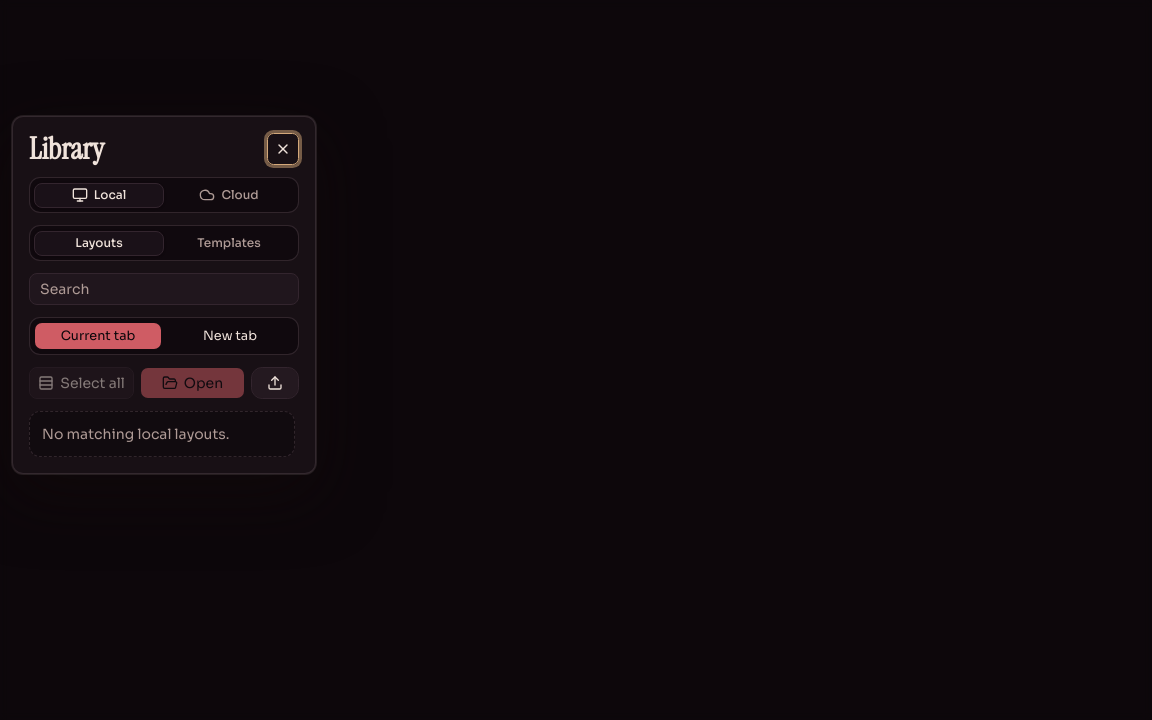
Test: cloud save UI › keeps template metadata short and toggles selection from the row body
Click the tab "Templates" at (229, 243), box [164,230,294,256]
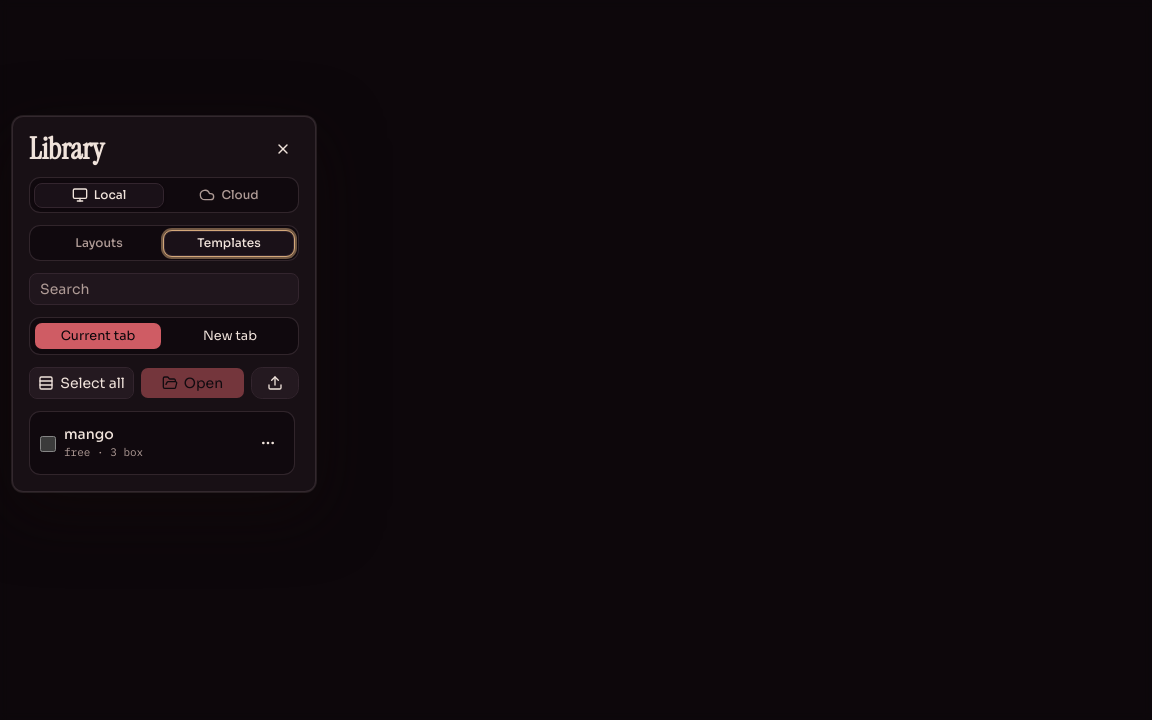
expect the checkbox named "Select mango" is not checked: met, box [40,436,56,452]
Click the text "mango" at (89, 434), box [64,425,114,443]
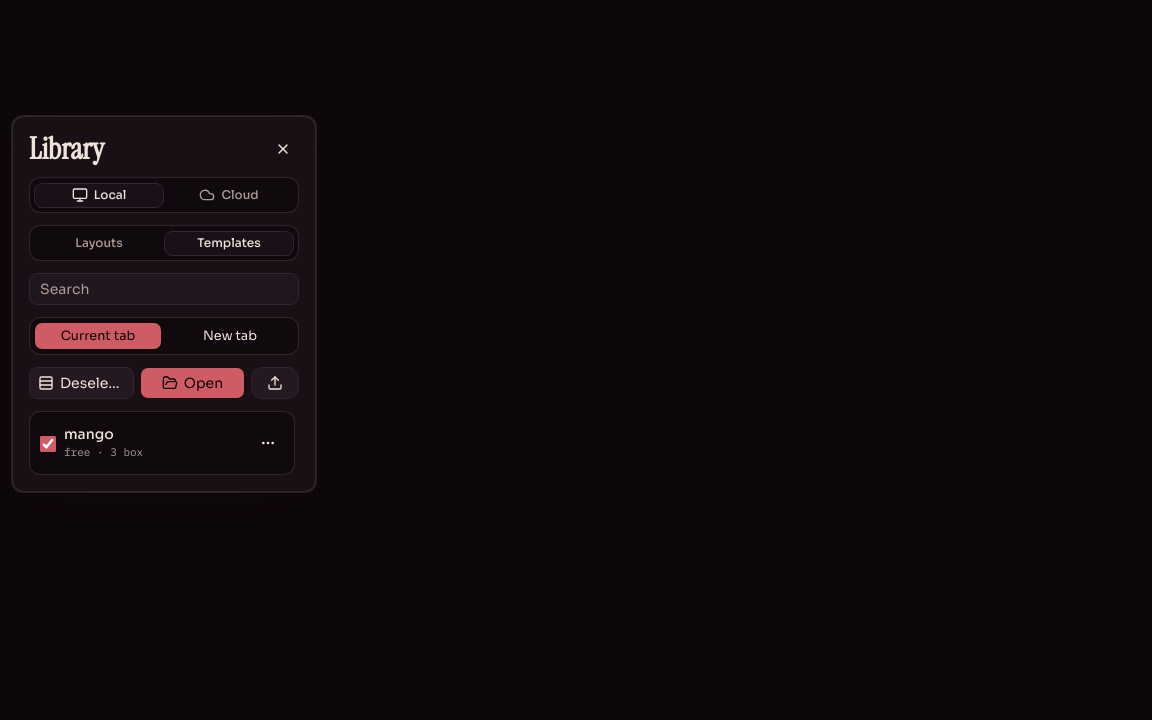
expect the checkbox named "Select mango" is checked: met, box [40,436,56,452]
